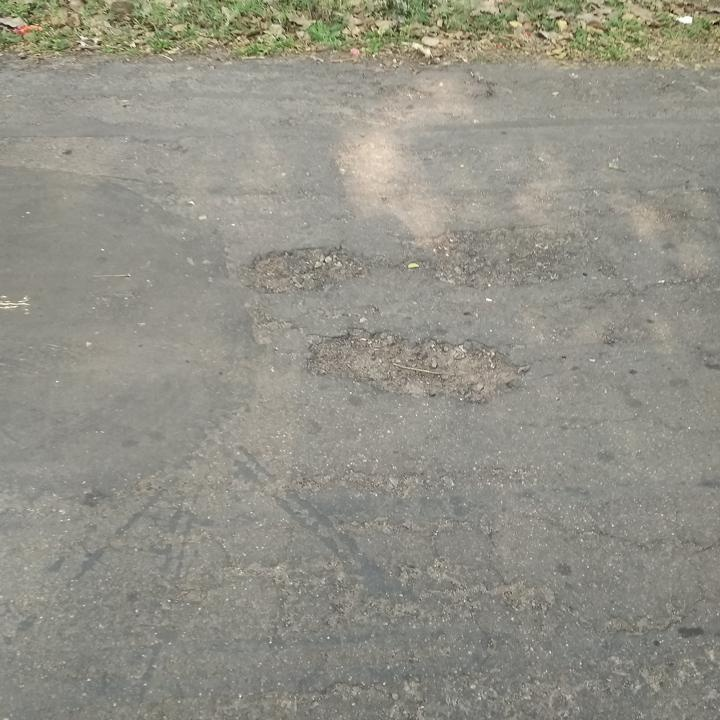pothole: (302, 322, 532, 406), (418, 222, 579, 292), (244, 238, 367, 297)
